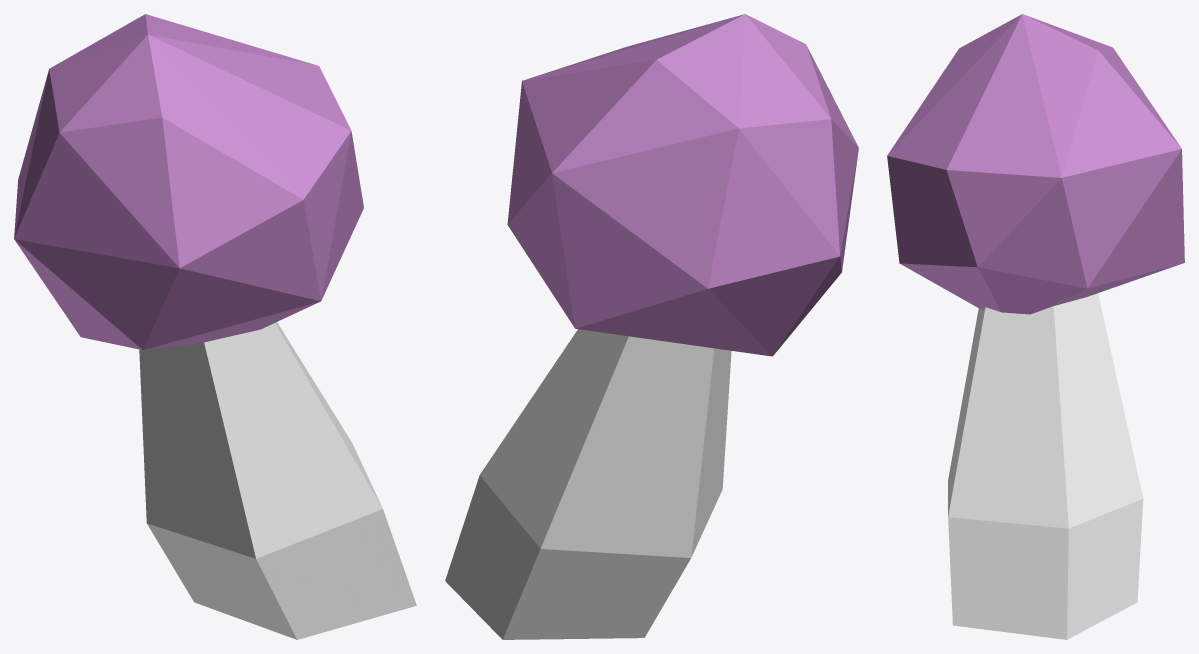
Rendered from Mushroom_k_05.fbx.
The picture shows the model from 3 angles, left to right: view 1: azimuth 30°, elevation 25°; view 2: azimuth 150°, elevation 25°; view 3: azimuth 270°, elevation 25°; orthographic projection. The views are drawn at different scales.
Parts seen in each view (by area): view 1: Mushroom_k_05; view 2: Mushroom_k_05; view 3: Mushroom_k_05.
Part boxes in pixels (box(x1,y1,x2,y2)): Mushroom_k_05: box(14, 14, 416, 639); Mushroom_k_05: box(445, 14, 858, 639); Mushroom_k_05: box(887, 14, 1184, 639).
Size of the model in its own units: 10.69 by 16.31 by 8.45.
